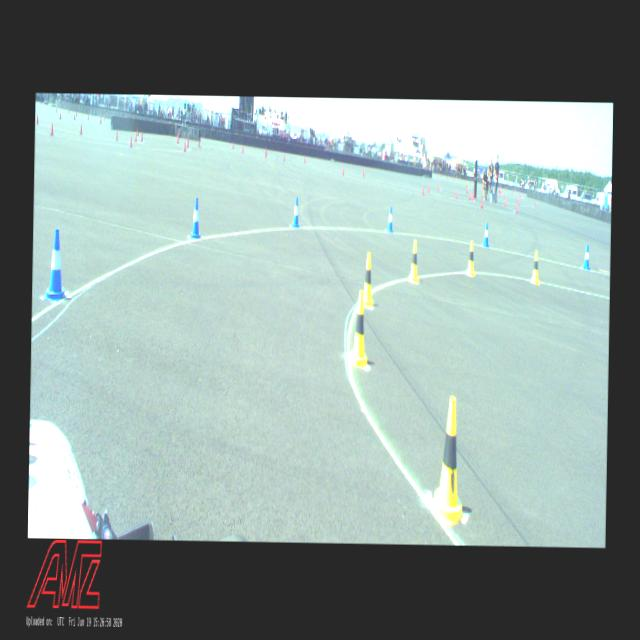blue_cone: (44, 228, 68, 302), (190, 197, 202, 241), (292, 197, 300, 228), (386, 205, 394, 232), (582, 244, 590, 270), (482, 222, 489, 248)
yellow_cone: (432, 395, 466, 521), (348, 289, 370, 366), (363, 252, 373, 307), (408, 240, 420, 282), (466, 240, 476, 276), (530, 250, 540, 284)
